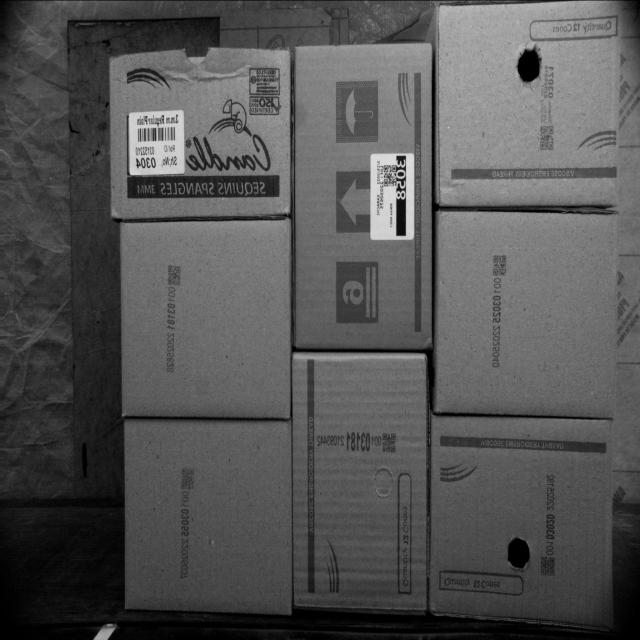cardboxes: (292, 46, 432, 349), (432, 209, 620, 413), (430, 415, 614, 621), (437, 0, 621, 206), (292, 355, 428, 615), (115, 220, 290, 418), (122, 418, 294, 616), (106, 50, 290, 216)
